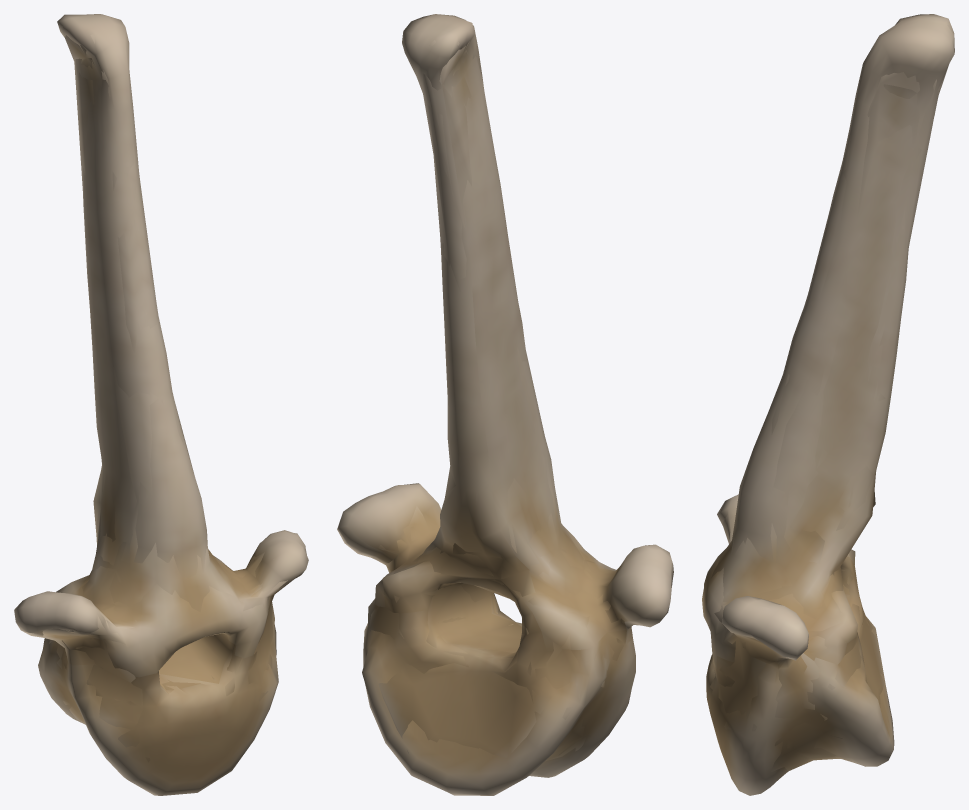
Rendered from vertebrae thoracicae 03.fbx.
3 renders of one model, left to right at view 1: azimuth 30°, elevation 25°; view 2: azimuth 150°, elevation 25°; view 3: azimuth 270°, elevation 25°, orthographic. The views are drawn at different scales.
Visible parts, largest first — view 1: vertebrae thoracicae 03, vertebrae thoracicae 03 low; view 2: vertebrae thoracicae 03, vertebrae thoracicae 03 low; view 3: vertebrae thoracicae 03, vertebrae thoracicae 03 low.
Boxes of the visible parts, <box> form: vertebrae thoracicae 03: <box>14,14,308,795</box>; vertebrae thoracicae 03 low: <box>31,26,292,762</box>; vertebrae thoracicae 03: <box>337,14,673,795</box>; vertebrae thoracicae 03 low: <box>369,40,626,761</box>; vertebrae thoracicae 03: <box>702,14,954,795</box>; vertebrae thoracicae 03 low: <box>710,25,951,771</box>.
Size of the model in its own units: 9.92 by 23.81 by 7.21.
1 material, 1 textured.
